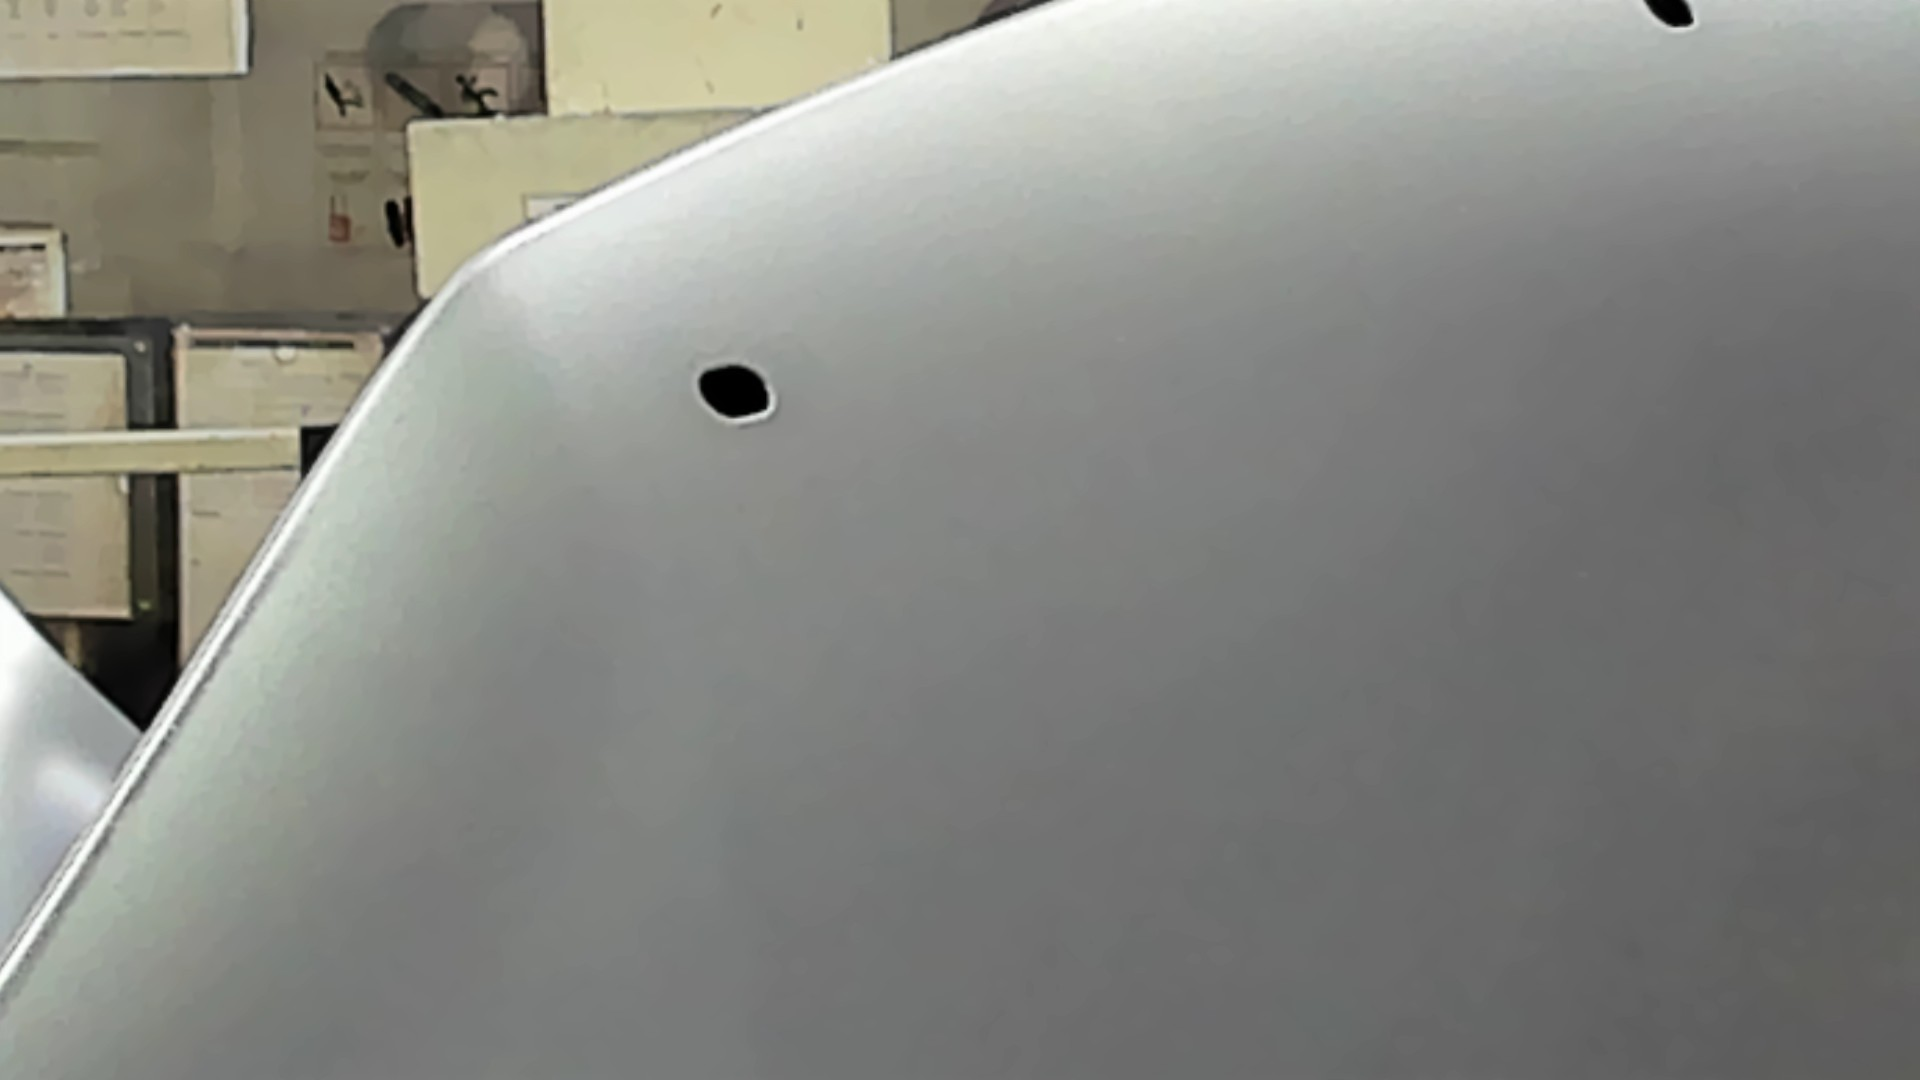amorfo: (688, 360, 782, 429), (1636, 1, 1698, 37)
capo: (839, 109, 1920, 1080)
